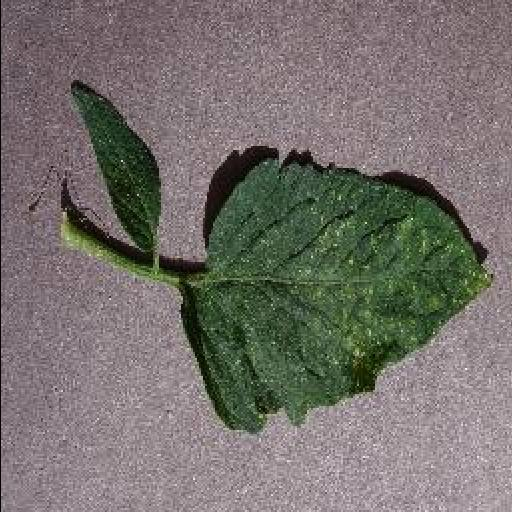disease_tomato: (188, 154, 496, 436)
